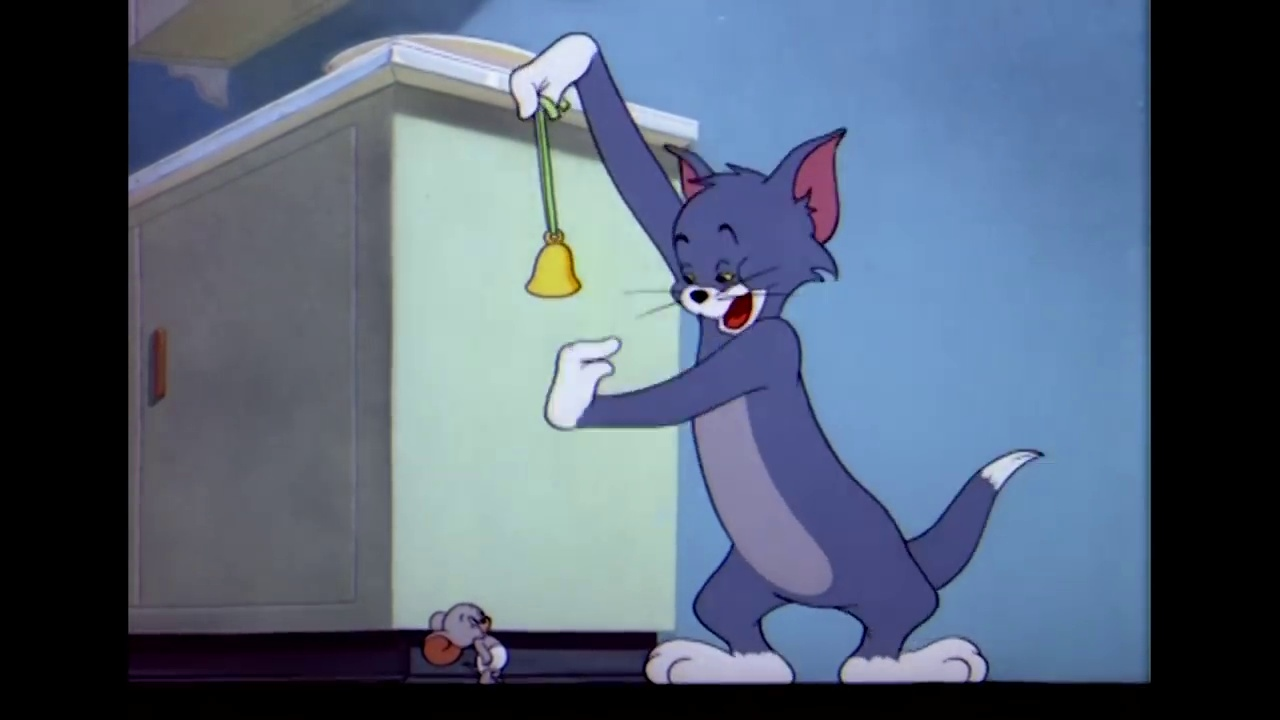tom: (659, 126, 855, 342)
